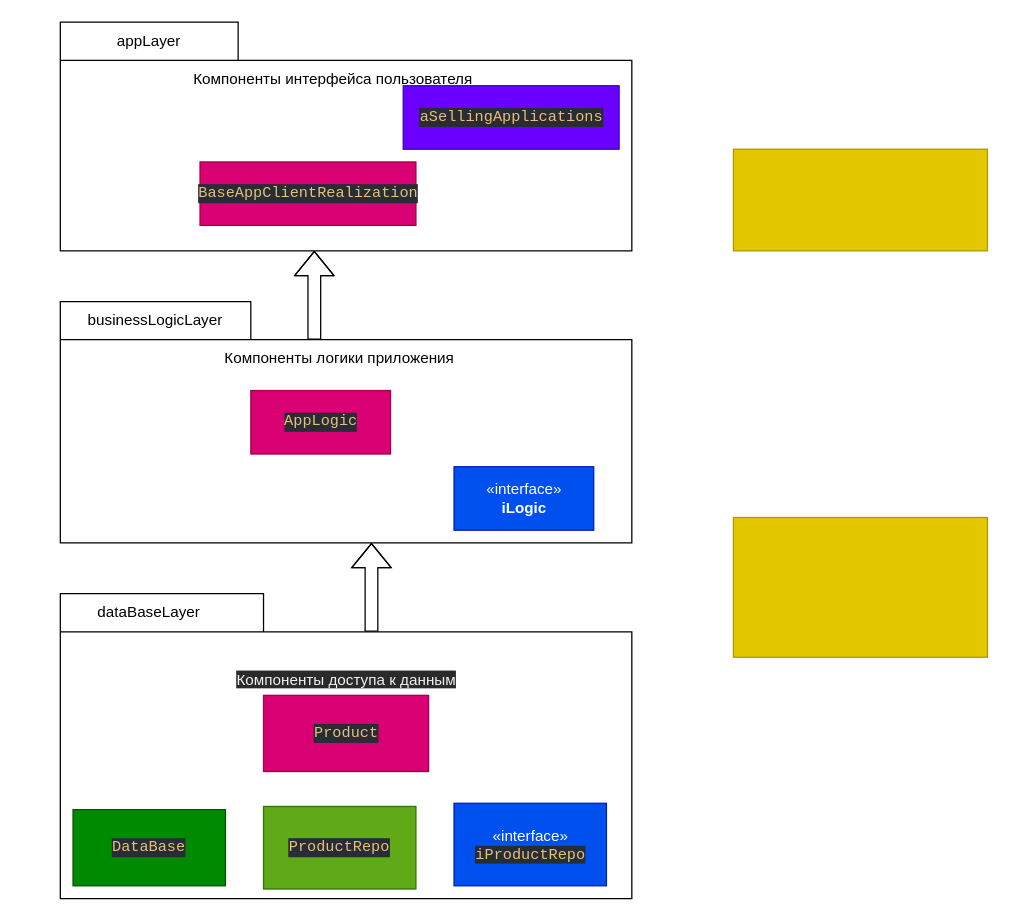
Image size: 1010x921. Some labels were removed from this diagram. Here are the shapes that lost their labels. From the top down, the centre of each, then its label:
point 859,199: Фронт
point 859,586: Бекэенд
